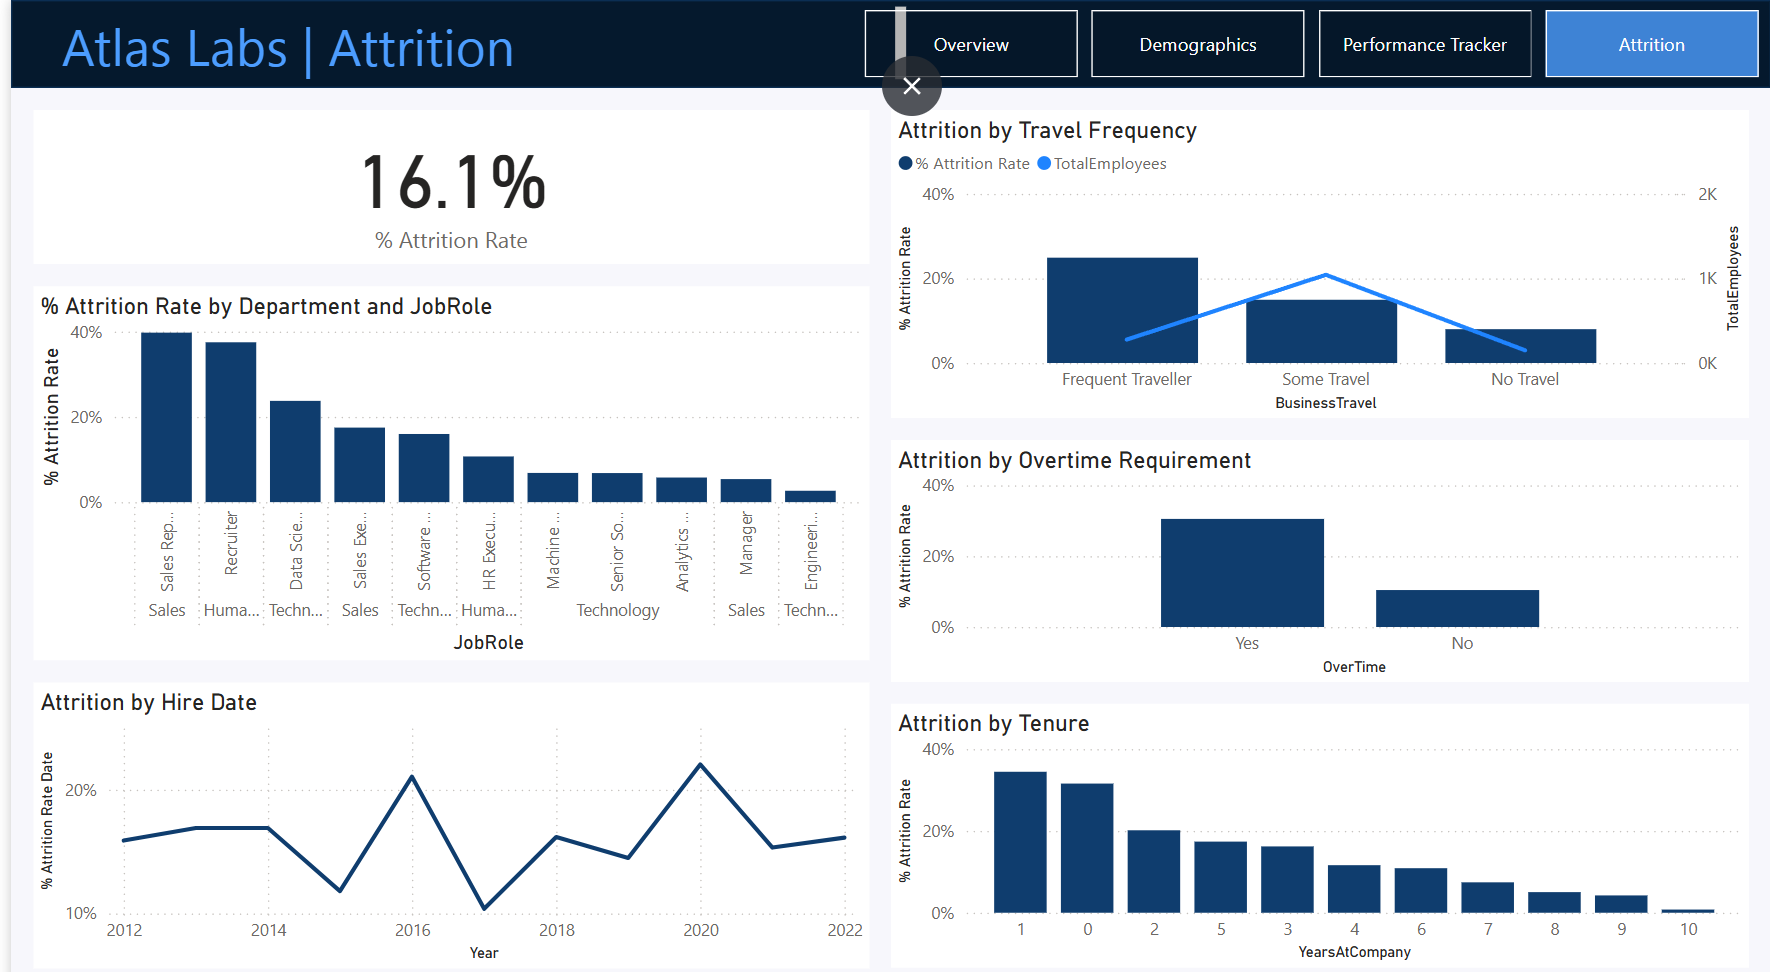

Layout of this report page (visuals, bound fields, positions):
{"tool":"powerbi","page":{"name":"Attrition","canvas":[1280,720],"ordinal":3},"visuals":[{"type":"card","fields":{"Values":["_Measures.% Attrition Rate"]},"box":[16,80,608,112],"z":0},{"type":"columnChart","fields":{"Category":["DimEmployee.Department","DimEmployee.JobRole"],"Y":["_Measures.% Attrition Rate"]},"box":[16,208,608,272],"z":1000},{"type":"lineChart","title":"Attrition by Hire Date","fields":{"Y":["_Measures.% Attrition Rate Date"],"Category":["DimDate.Date.Variation.Date Hierarchy.Year","DimDate.Date.Variation.Date Hierarchy.Quarter","DimDate.Date.Variation.Date Hierarchy.Month","DimDate.Date.Variation.Date Hierarchy.Day"]},"box":[16,496,608,208],"z":2000},{"type":"lineStackedColumnComboChart","title":"Attrition by Travel Frequency","fields":{"Y":["_Measures.% Attrition Rate"],"Category":["DimEmployee.BusinessTravel"],"Y2":["_Measures.TotalEmployees"]},"box":[640,80,624,224],"z":3000},{"type":"columnChart","title":"Attrition by Overtime Requirement","fields":{"Category":["DimEmployee.OverTime"],"Y":["_Measures.% Attrition Rate"]},"box":[640,320,624,176],"z":4000},{"type":"columnChart","title":"Attrition by Tenure","fields":{"Category":["DimEmployee.YearsAtCompany"],"Y":["_Measures.% Attrition Rate"]},"box":[640,512,624,192],"z":5000},{"type":"shape","box":[0,0,1280,64],"z":6000},{"type":"textbox","box":[32,0,624,64],"z":7000},{"type":"pageNavigator","box":[621.3,7.2,652.7,49.5],"z":8000}]}

Visuals, with their boxes in screenshot pixels (x1, y1, x2, y2), scaled from the page's 1280x720 canvas onto the 1770x972 screenshot:
card - _Measures.% Attrition Rate: <bbox>22, 108, 863, 259</bbox>
columnChart - DimEmployee.Department x DimEmployee.JobRole: <bbox>22, 281, 863, 648</bbox>
"Attrition by Hire Date" lineChart: <bbox>22, 670, 863, 950</bbox>
"Attrition by Travel Frequency" lineStackedColumnComboChart: <bbox>885, 108, 1748, 410</bbox>
"Attrition by Overtime Requirement" columnChart: <bbox>885, 432, 1748, 670</bbox>
"Attrition by Tenure" columnChart: <bbox>885, 691, 1748, 950</bbox>
shape: <bbox>0, 0, 1769, 86</bbox>
textbox: <bbox>44, 0, 907, 86</bbox>
pageNavigator: <bbox>859, 10, 1762, 77</bbox>
